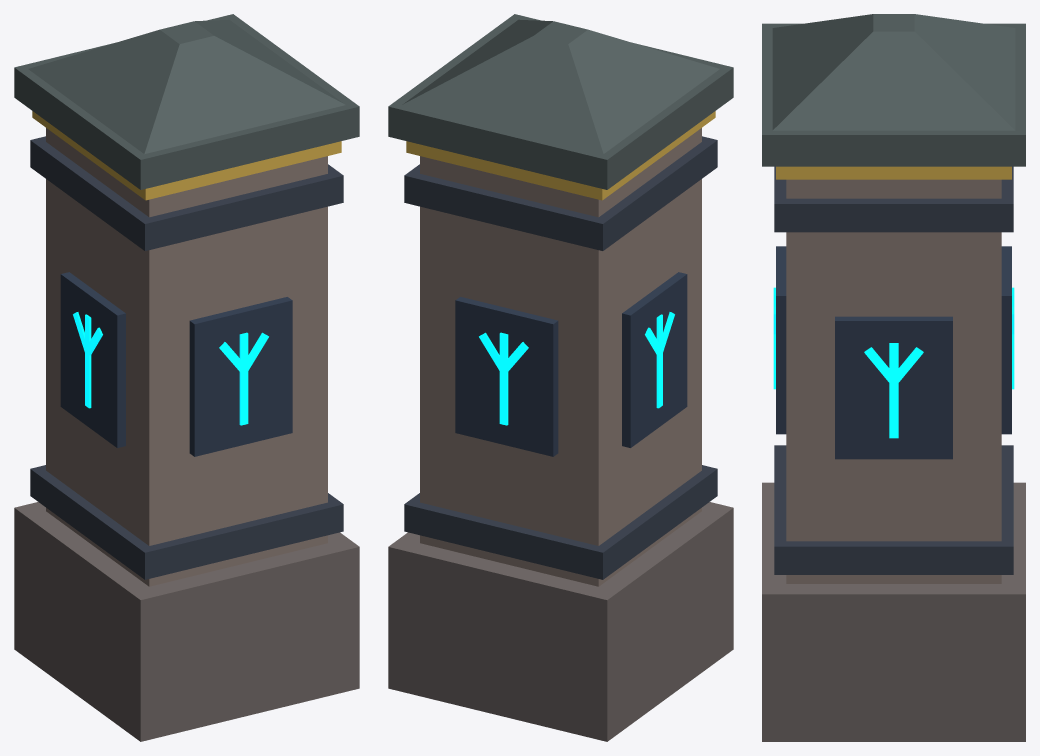
The model's file is stone_wall_post_low.glb.
3 views of the same model, side by side, from view 1: azimuth 30°, elevation 25°; view 2: azimuth 150°, elevation 25°; view 3: azimuth 270°, elevation 25° (orthographic). The views are drawn at different scales.
Parts seen in each view (by area): view 1: body, glow_runes; view 2: body, glow_runes; view 3: body, glow_runes.
Part boxes in pixels (x1,y1,x2,y2): body: (14,14,359,741); glow_runes: (73,312,268,425); body: (388,14,733,741); glow_runes: (479,312,674,425); body: (762,14,1025,741); glow_runes: (773,287,1014,438).
Size of the model in its own units: 0.76 by 2.11 by 0.76.
